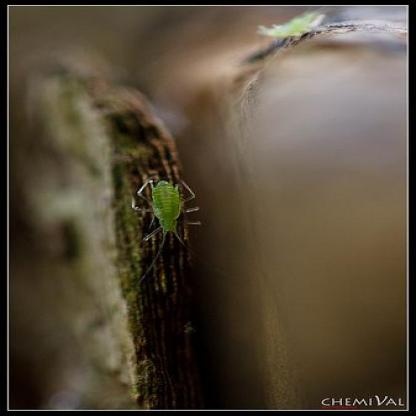aphid: (120, 164, 213, 258)
